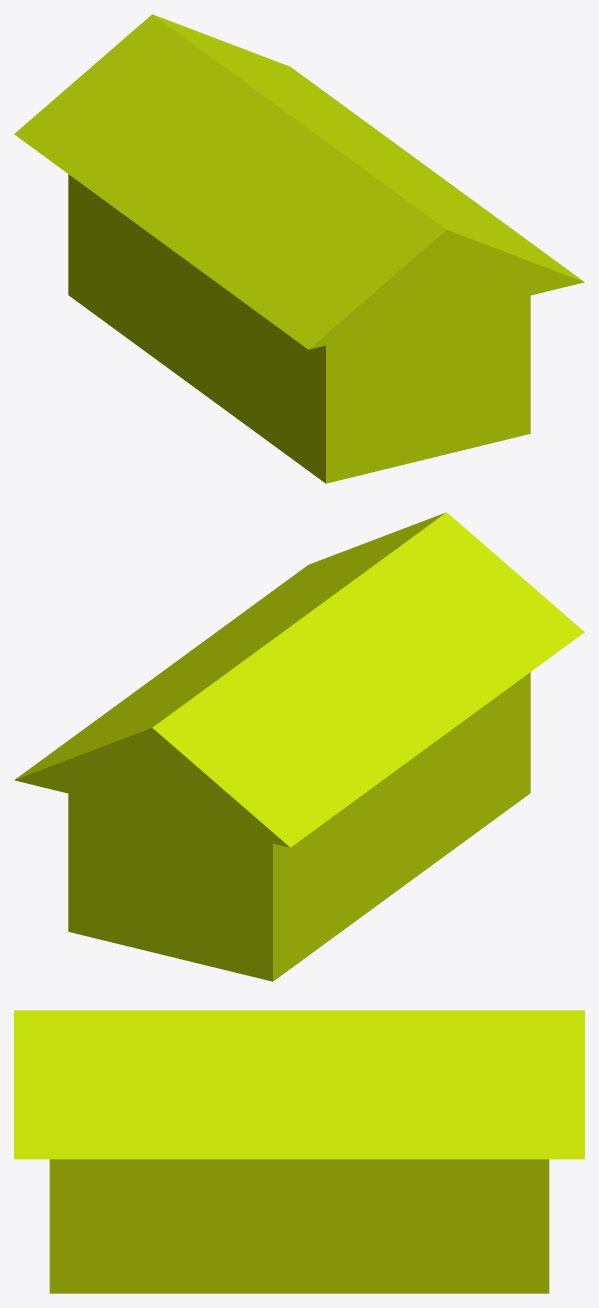
The picture shows the model from 3 angles, top to bottom: view 1: azimuth 30°, elevation 25°; view 2: azimuth 150°, elevation 25°; view 3: azimuth 270°, elevation 25°; orthographic projection. The views are drawn at different scales.
Parts seen in each view (by area): view 1: Cube; view 2: Cube; view 3: Cube.
Boxes of the visible parts, box(x1,y1,x2,y2) form: Cube: box(14, 14, 584, 483); Cube: box(14, 512, 584, 981); Cube: box(14, 1010, 584, 1293).
Size of the model in its own units: 2.7 by 2.26 by 4.98.
